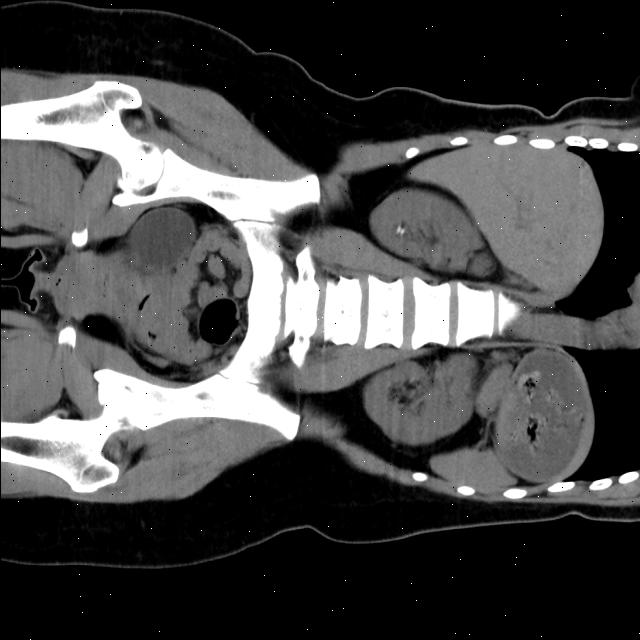kidneystone: (394, 222, 408, 237)
